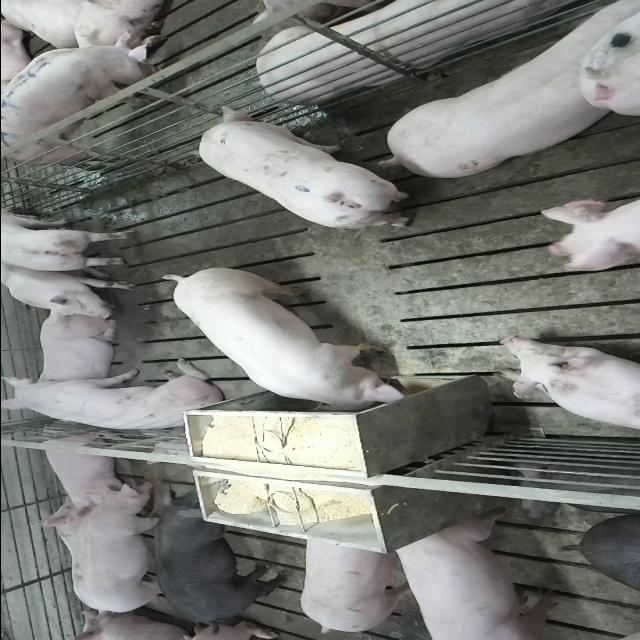Feeding: (162, 271, 410, 420)
Sitting: (4, 364, 230, 436), (2, 266, 140, 320)
Standing: (373, 5, 633, 183), (198, 105, 420, 229), (387, 514, 562, 638), (0, 25, 153, 164), (146, 494, 284, 626), (74, 480, 168, 617), (297, 532, 415, 634), (2, 203, 138, 271)
Sternal_lying: (254, 0, 580, 101), (494, 334, 640, 434), (539, 190, 640, 278), (32, 426, 132, 511), (35, 310, 121, 390)
